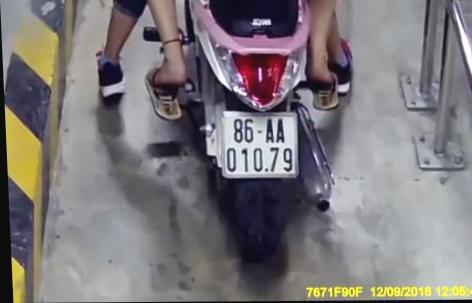License_Plate: (207, 106, 307, 187)
